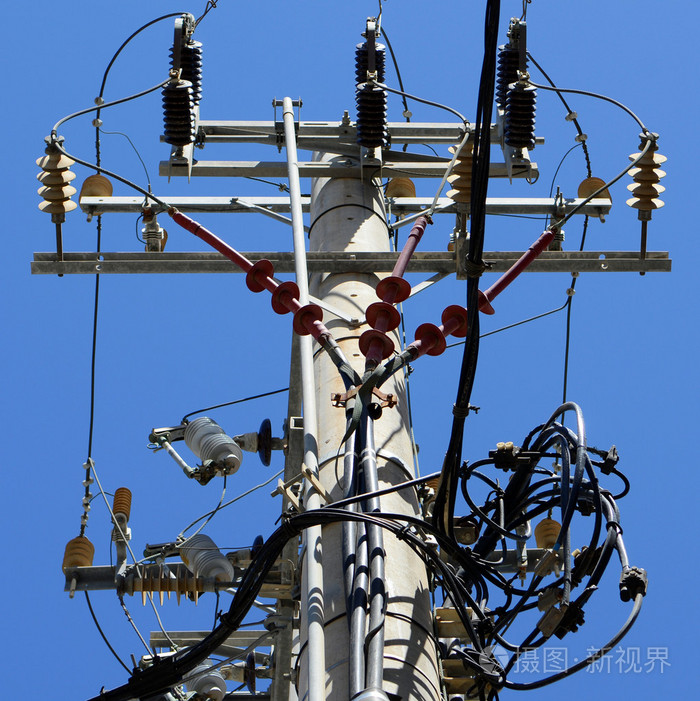insulator: (244, 258, 321, 332), (421, 287, 498, 358), (361, 275, 415, 360), (35, 153, 80, 216), (628, 148, 665, 213), (441, 145, 475, 201), (60, 536, 94, 573), (580, 173, 614, 206), (78, 175, 114, 205), (536, 517, 561, 549), (387, 177, 416, 203)
